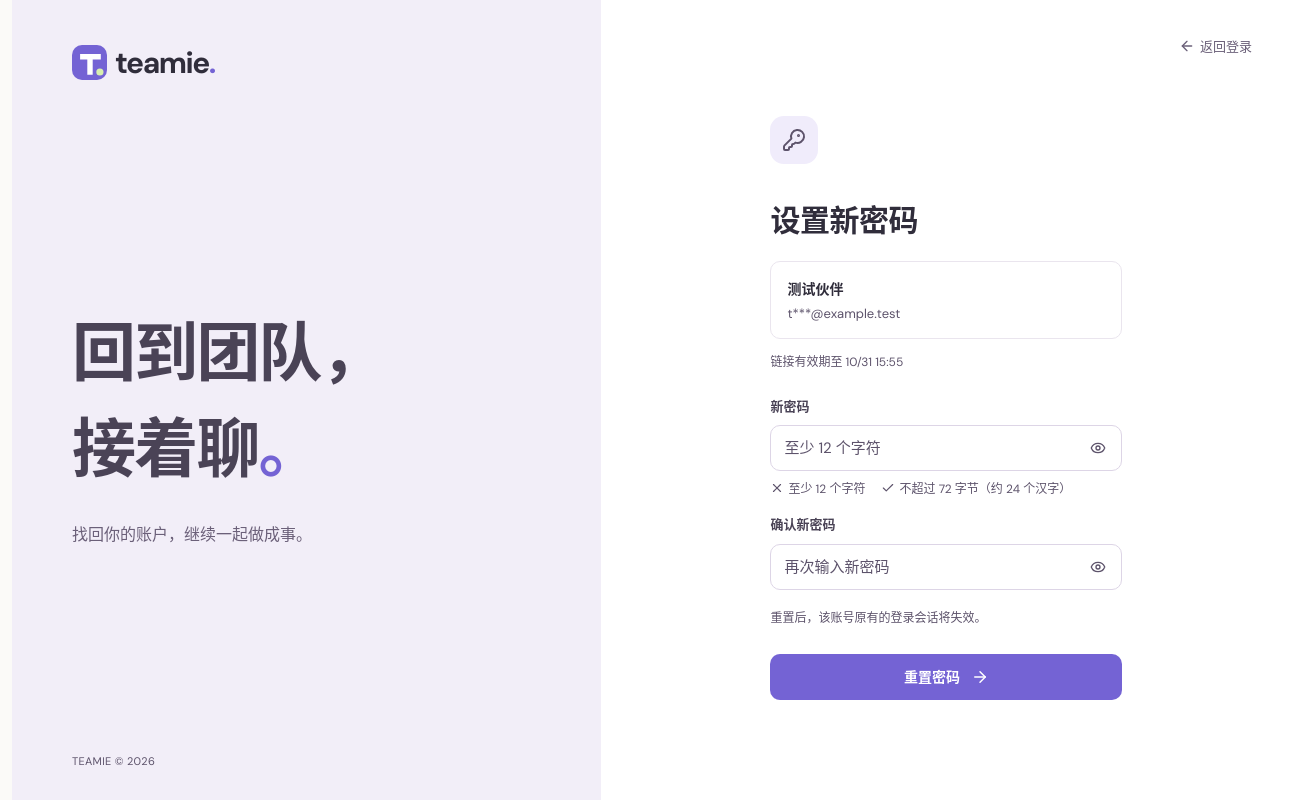
Test: public password recovery › keeps an unrelated account and its cache after resetting the target
In the password field named "newPassword": (946, 448) [770,425,1122,471], type "example-new-password"
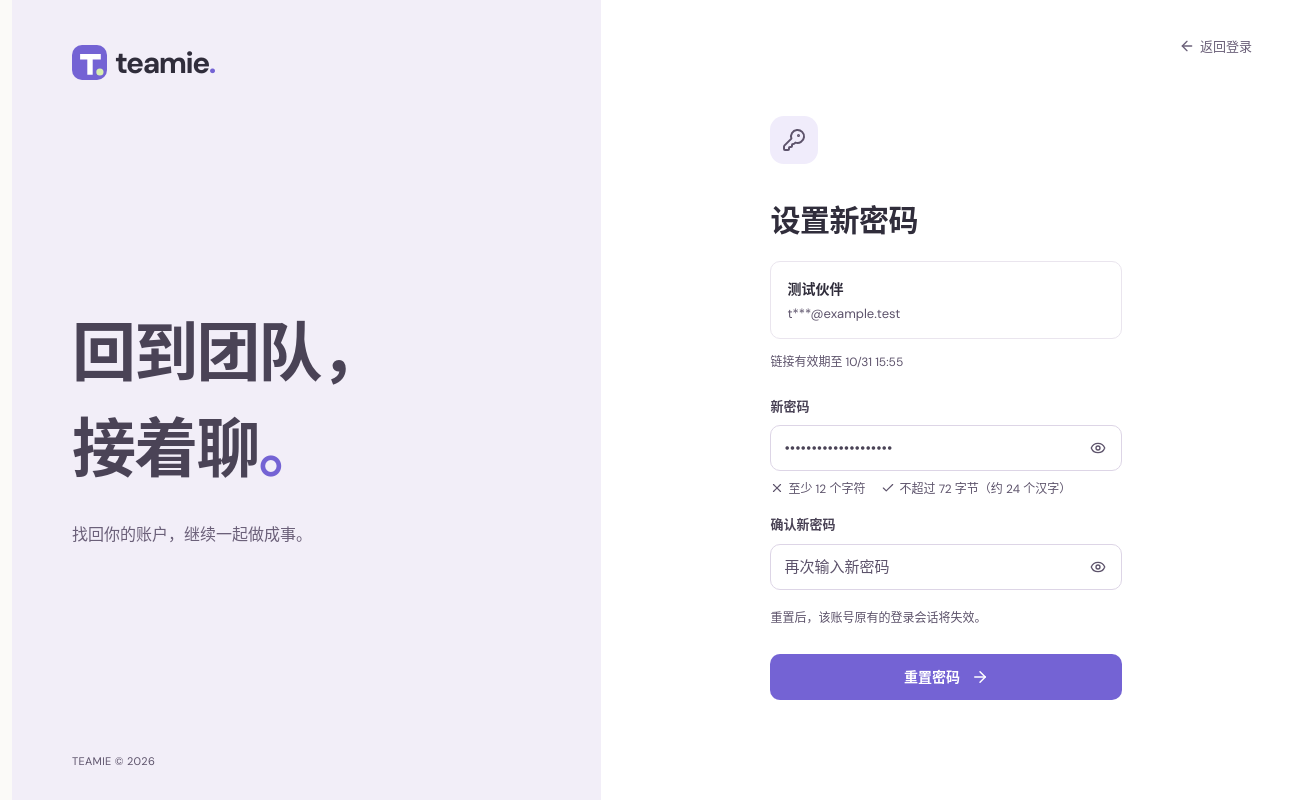
In the password field named "confirmPassword": (946, 567) [770,544,1122,590], type "example-new-password"
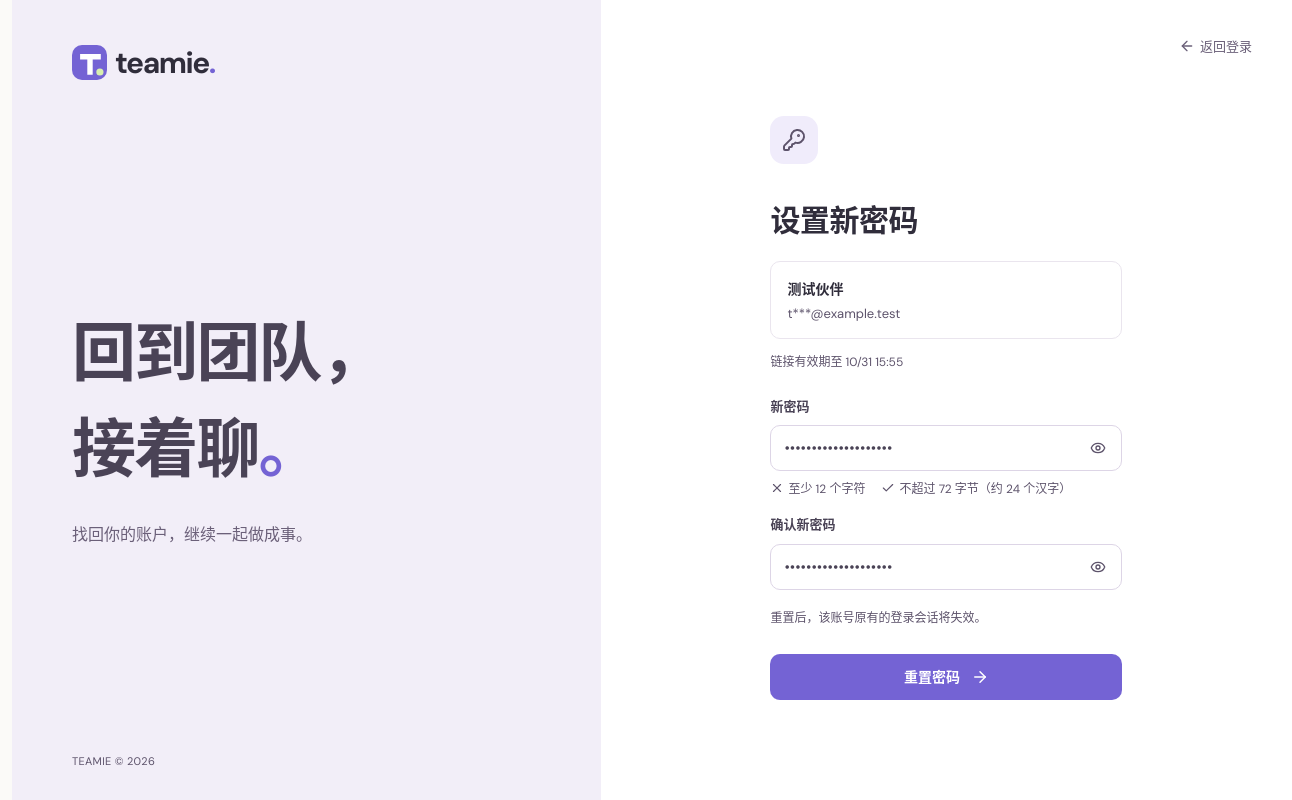
Submit the form, box [770,397,1122,700]
(page scrolled)
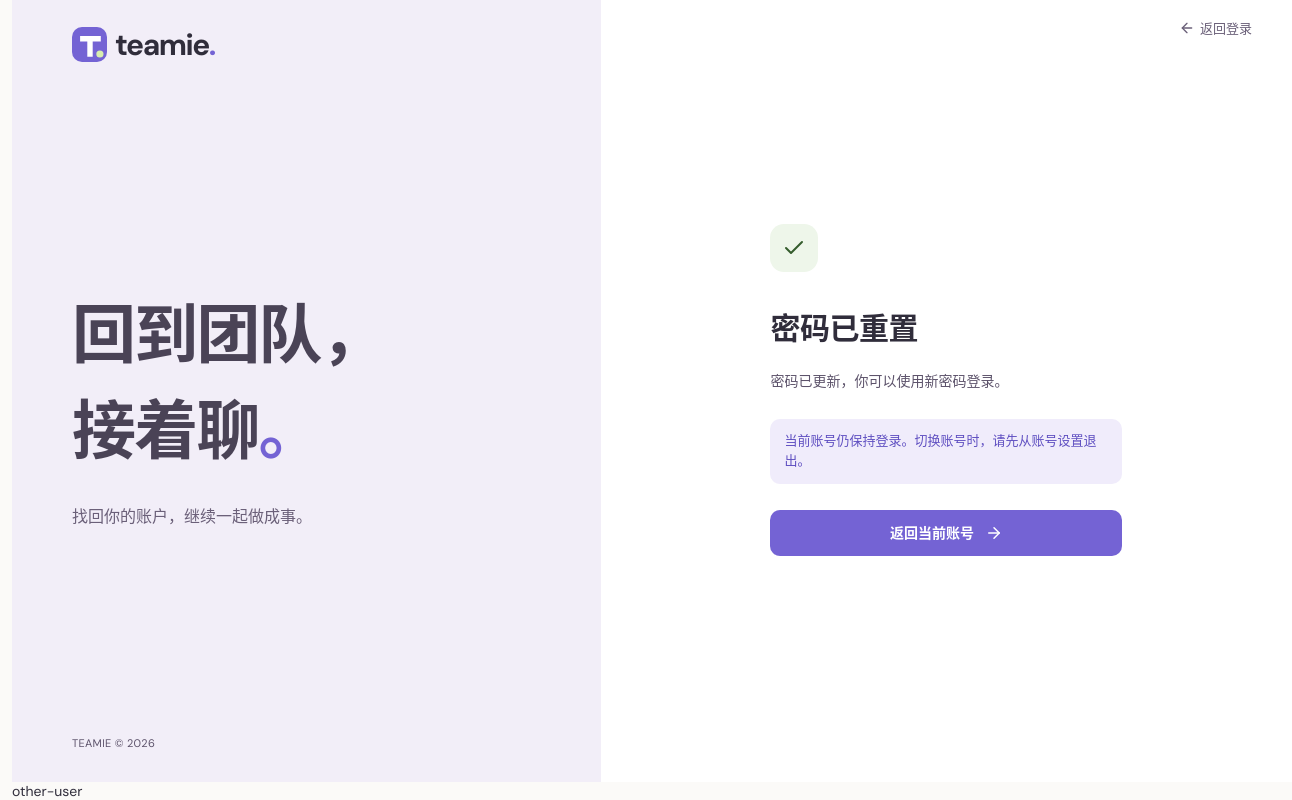
expect the text "other-user" is shown: met, box [12,782,82,799]
expect the text "返回当前账号" is shown: met, box [770,510,1122,556]
